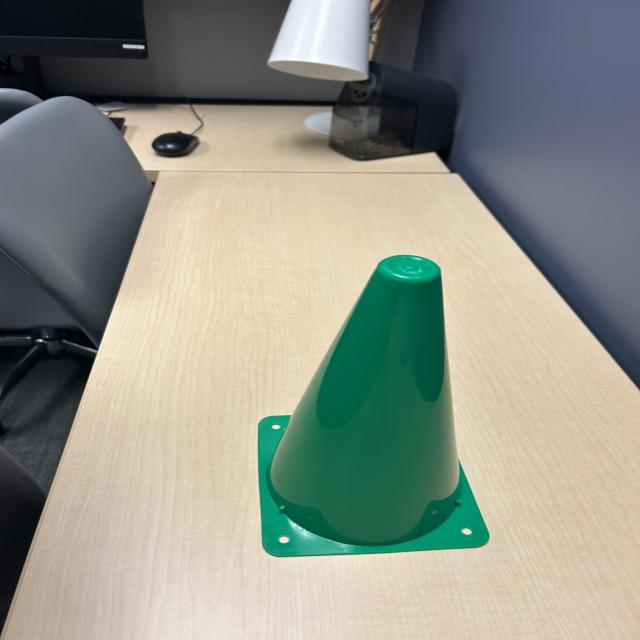green cone: (250, 252, 505, 559)
